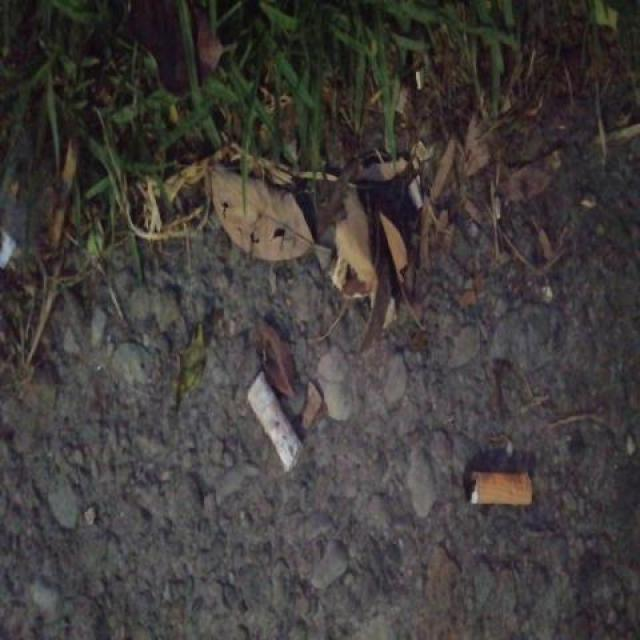non-organic waste: (240, 366, 308, 478), (457, 465, 539, 512)
